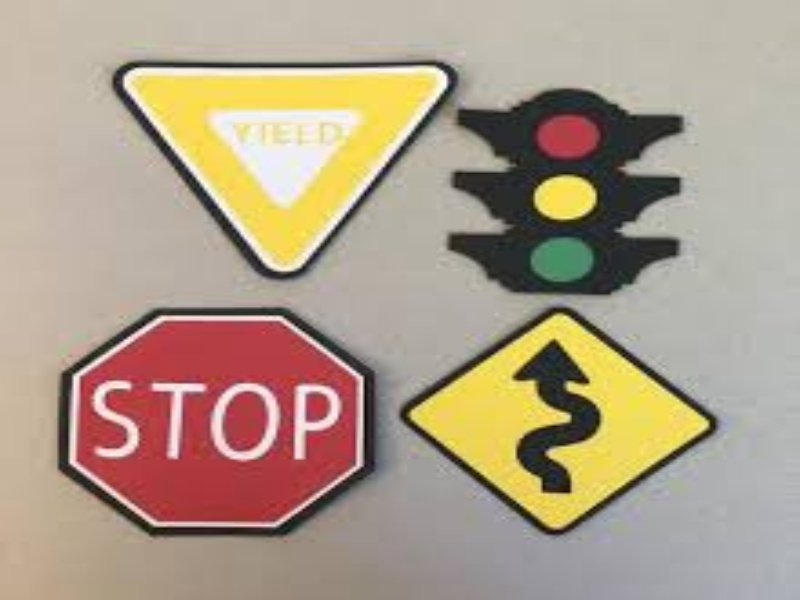Stop_Sign: (59, 310, 379, 533)
